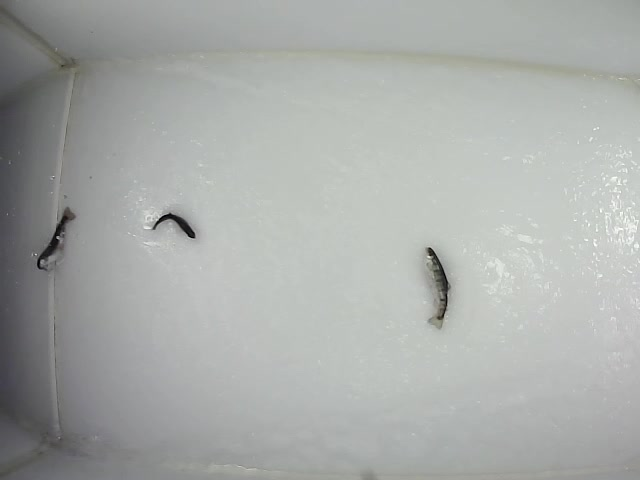fish: (35, 204, 77, 273), (424, 244, 453, 334), (150, 210, 197, 240)
